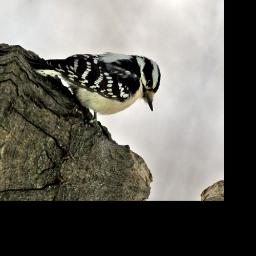Woodpecker: (7, 22, 169, 152)
